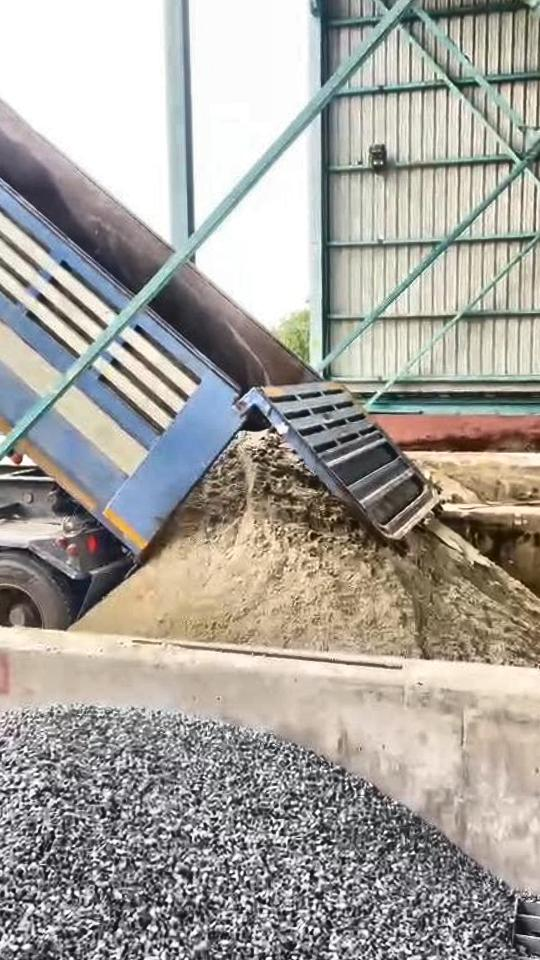gravel: (0, 706, 540, 960)
sand: (74, 433, 540, 672), (420, 461, 482, 504)
